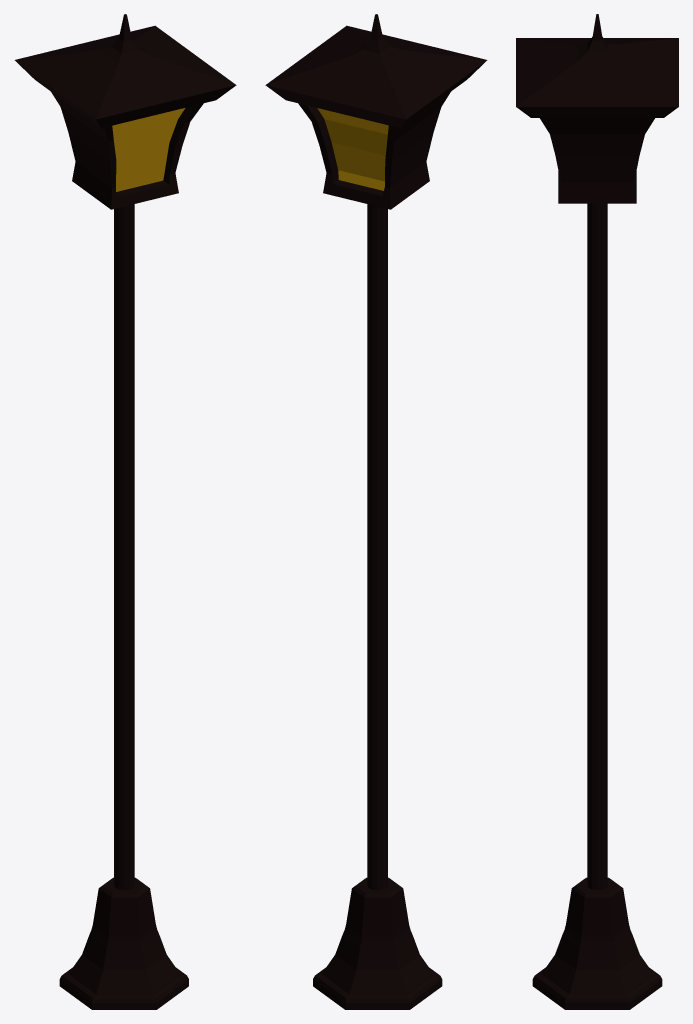
Rendered from lamp_post.obj.
The picture shows the model from 3 angles, left to right: view 1: azimuth 30°, elevation 25°; view 2: azimuth 150°, elevation 25°; view 3: azimuth 270°, elevation 25°; orthographic projection.
Parts seen in each view (by area): view 1: Cylinder; view 2: Cylinder; view 3: Cylinder.
Part boxes in pixels (x1,y1,x2,y2): Cylinder: [14, 14, 236, 1009]; Cylinder: [265, 14, 487, 1009]; Cylinder: [516, 14, 678, 1009].
Size of the model in its own units: 0.1574 by 1.04 by 0.1574.
